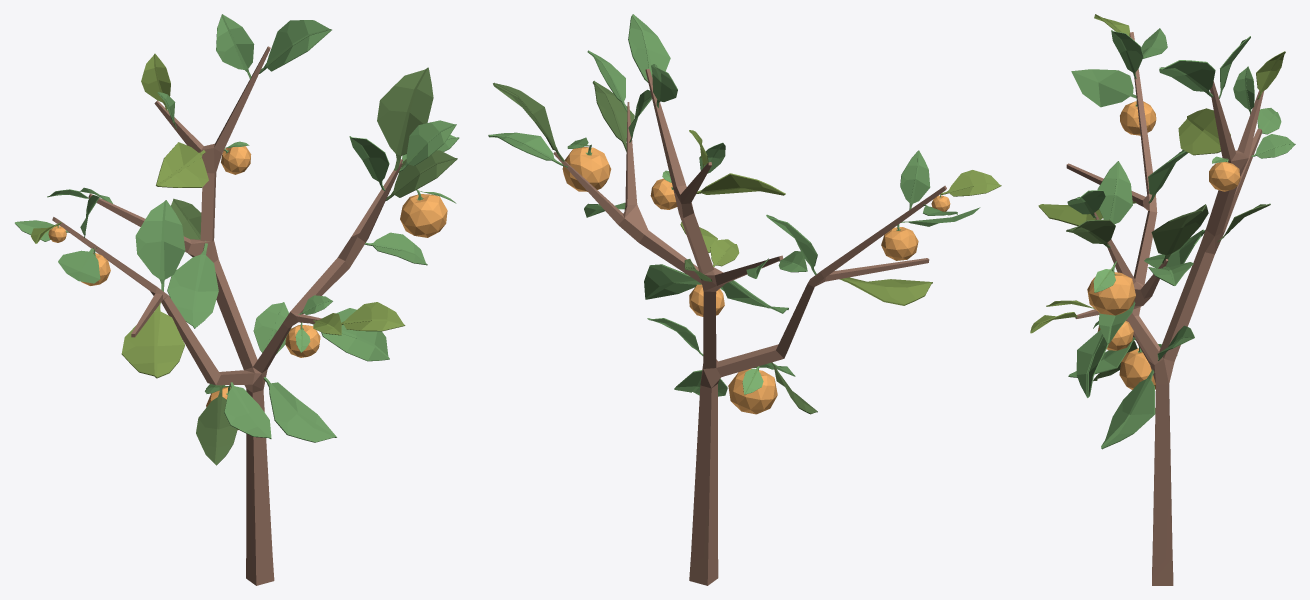
File: JerukTahap3.fbx
3 renders of one model, left to right at view 1: azimuth 30°, elevation 25°; view 2: azimuth 150°, elevation 25°; view 3: azimuth 270°, elevation 25°, orthographic. The views are drawn at different scales.
Parts seen in each view (by area): view 1: jeruk3.002; view 2: jeruk3.002; view 3: jeruk3.002.
Part boxes in pixels (x1=…): jeruk3.002: x1=15, y1=14, x2=459, y2=585; jeruk3.002: x1=488, y1=14, x2=1001, y2=585; jeruk3.002: x1=1030, y1=14, x2=1295, y2=585.
Bounding box in the file's own units: 97.04 × 108 × 46.95.
